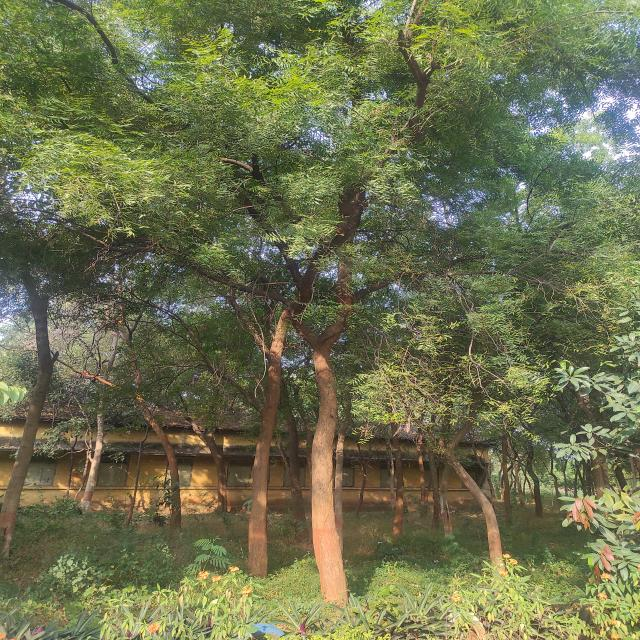Neem Tree: (39, 5, 571, 555)
